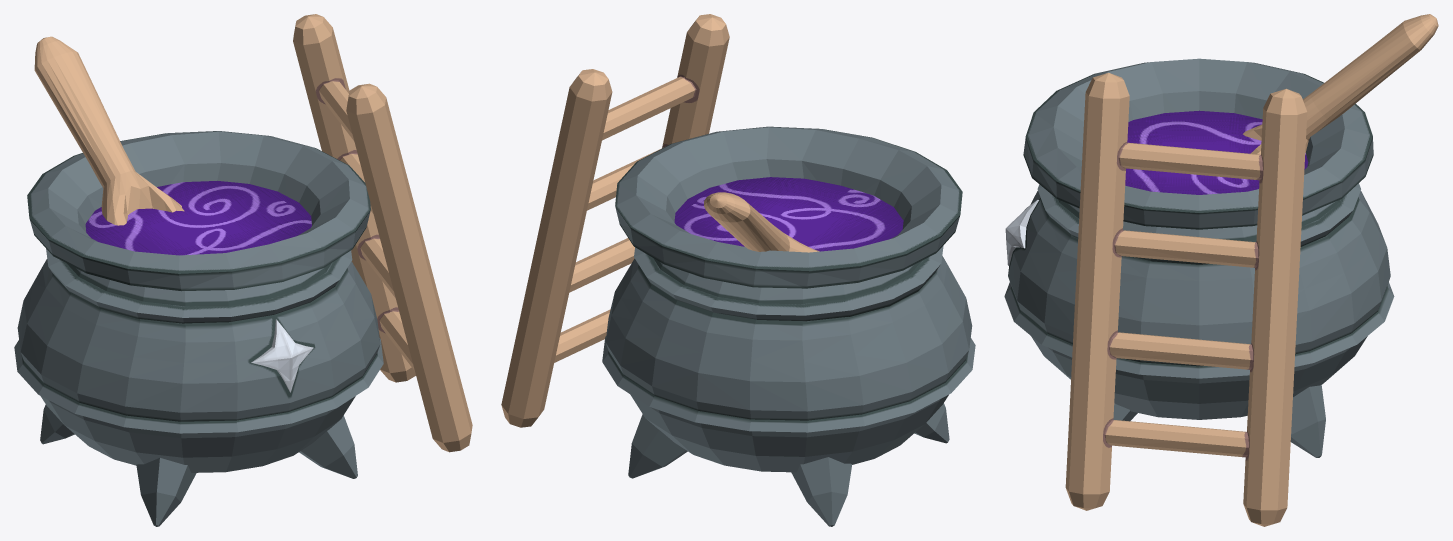
File: 05Cauldron.fbx
3 renders of one model, left to right at view 1: azimuth 30°, elevation 25°; view 2: azimuth 150°, elevation 25°; view 3: azimuth 270°, elevation 25°, orthographic. The views are drawn at different scales.
Visible parts, largest first — view 1: TheCauldron; view 2: TheCauldron; view 3: TheCauldron.
Part boxes in pixels (box(x1,y1,x2,y2)): TheCauldron: box(14, 14, 472, 526); TheCauldron: box(501, 14, 975, 526); TheCauldron: box(1004, 14, 1438, 526).
Bounding box in the file's own units: 9.97 × 8.77 × 8.72.
Materials: 1 (1 with a texture image).
